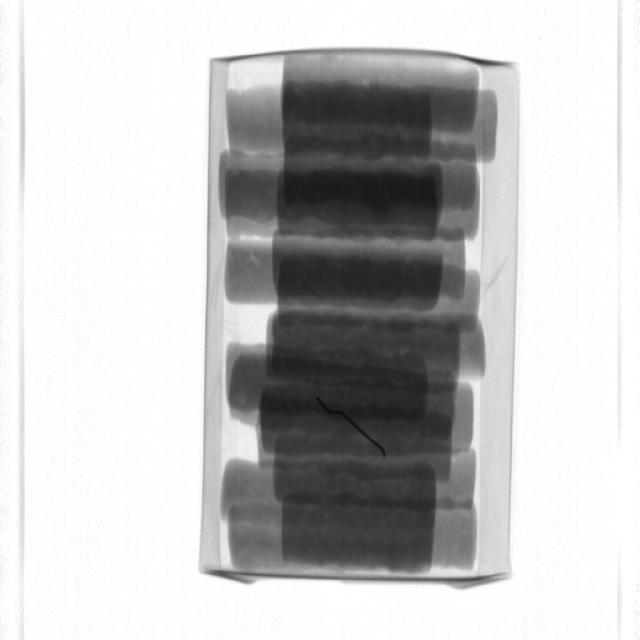ym: (320, 393, 389, 457)
